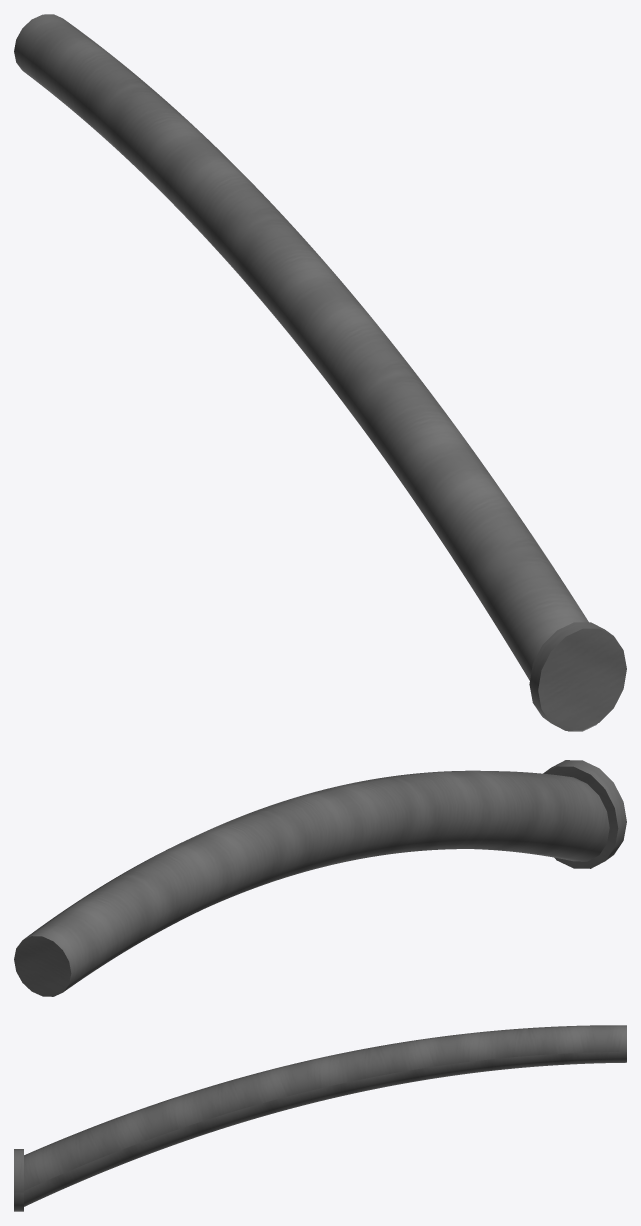
Rendered from mastarmcurve_8x2_inv.obj.
3 views of the same model, one above another, from view 1: azimuth 30°, elevation 25°; view 2: azimuth 150°, elevation 25°; view 3: azimuth 270°, elevation 25° (orthographic). The views are drawn at different scales.
Visible parts, largest first — view 1: mastarm_8x2_inv; view 2: mastarm_8x2_inv; view 3: mastarm_8x2_inv.
Boxes of the visible parts, x1,y1,x2,y2 form: mastarm_8x2_inv: [14, 14, 626, 731]; mastarm_8x2_inv: [14, 760, 626, 996]; mastarm_8x2_inv: [14, 1025, 626, 1211].
Size of the model in its own units: 0.095 by 0.329 by 1.
